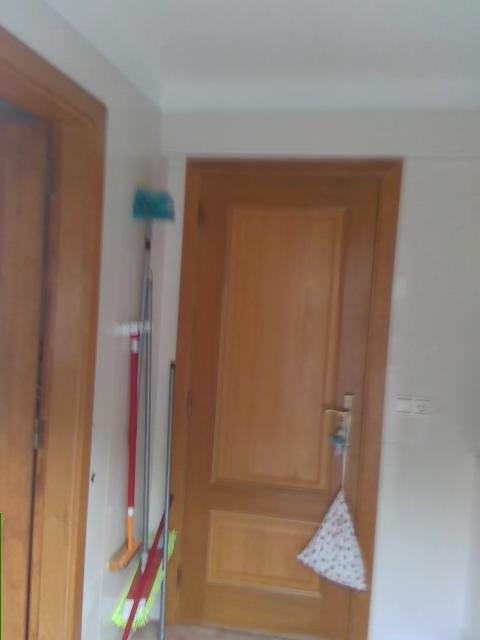closed_door: (152, 155, 402, 638)
